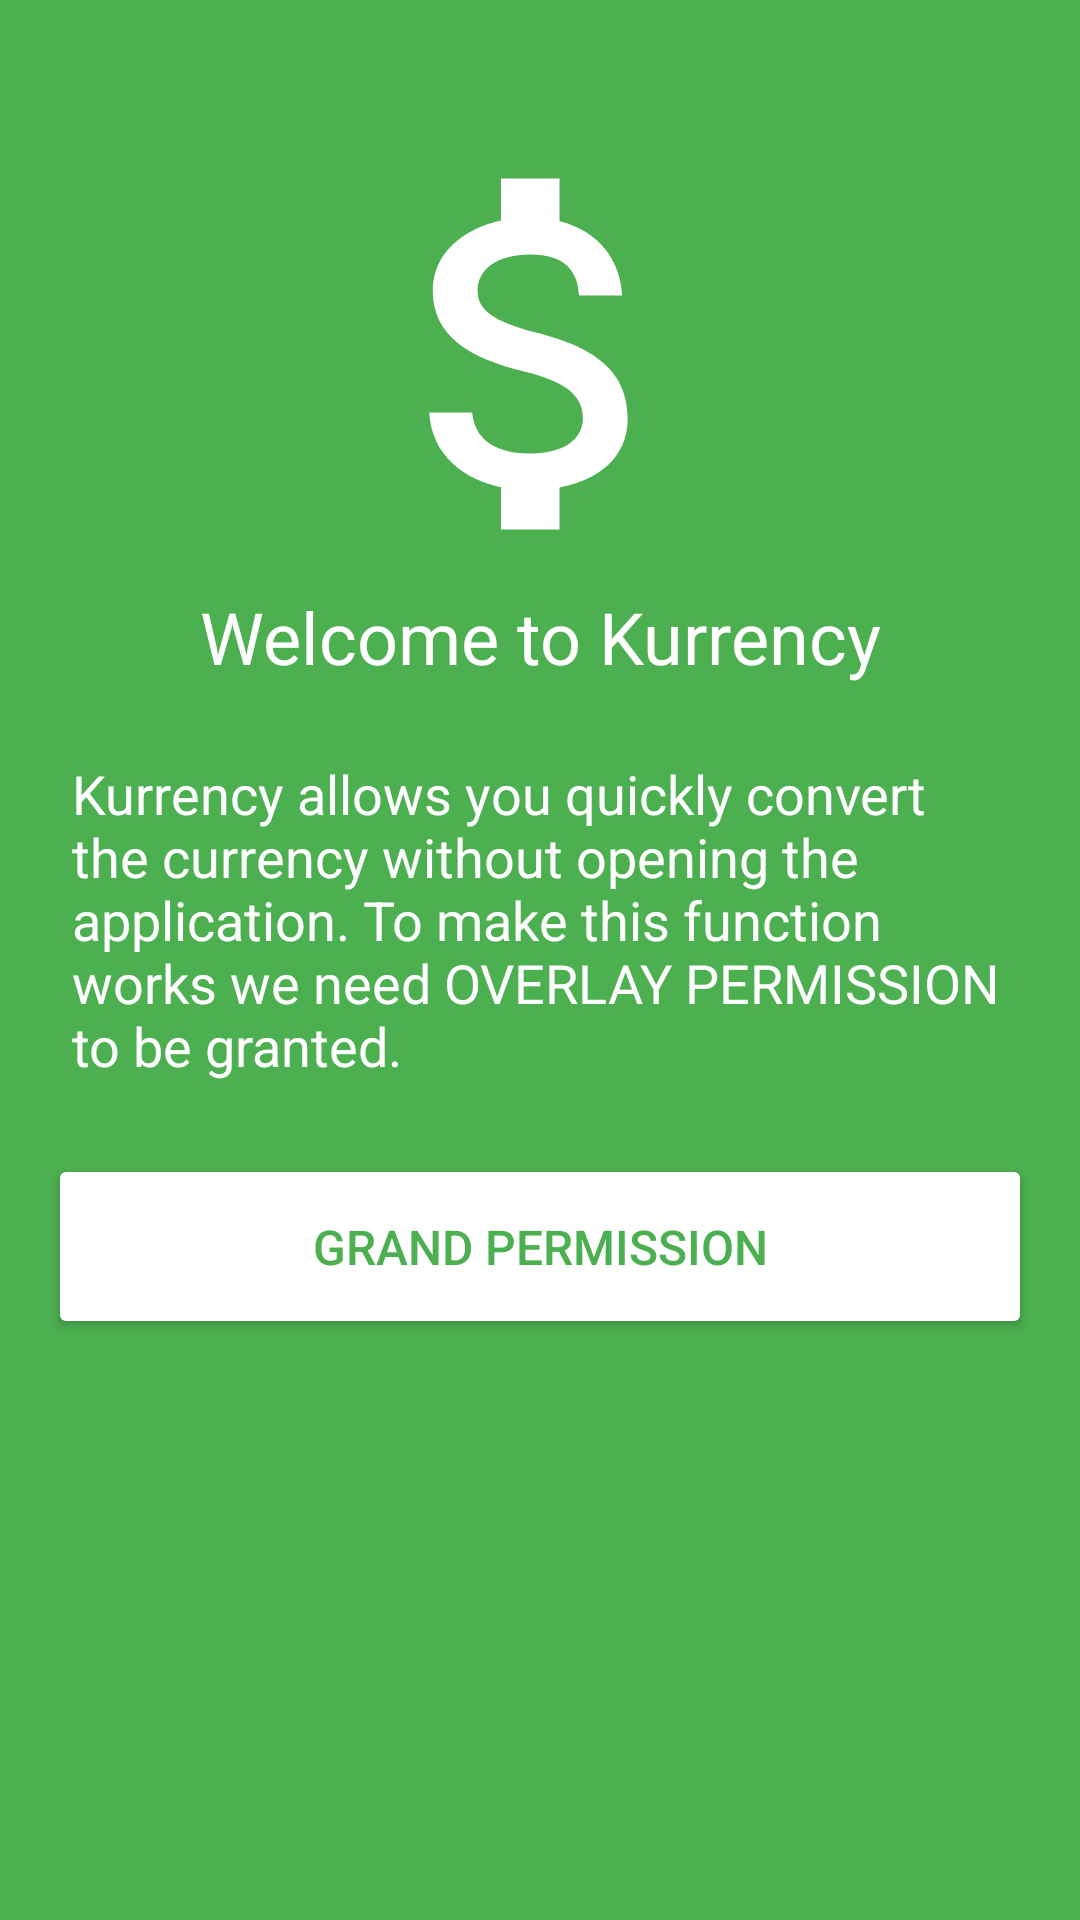

Icons on this 1080px x 1920px Android screen, each with its box as (x1, y1, x2, y2):
money: (429, 178, 628, 530)
